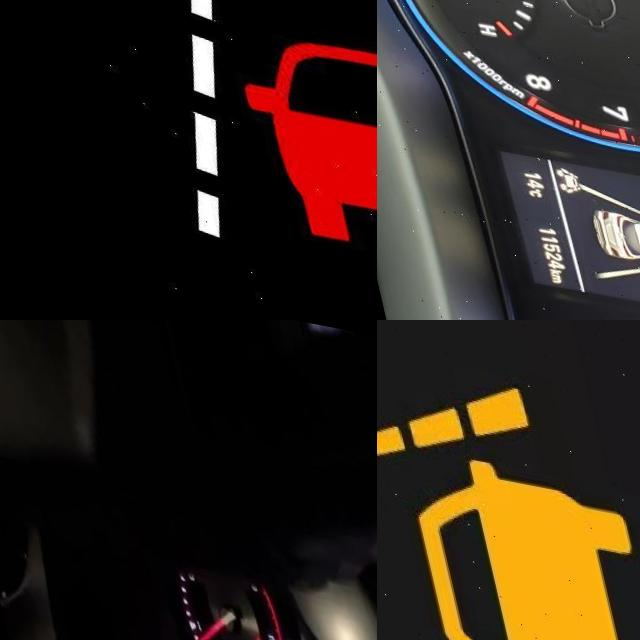Seat Belt: (238, 627, 250, 640)
